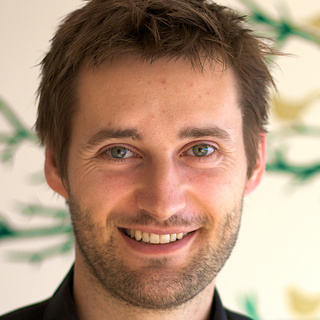eye: (90, 142, 146, 168), (172, 139, 227, 163)
